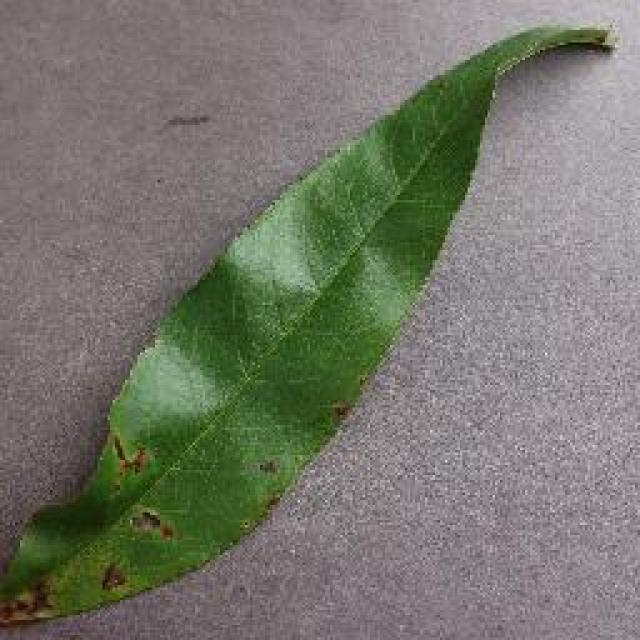Peach_Bacterial_Spot: (55, 416, 287, 596)
